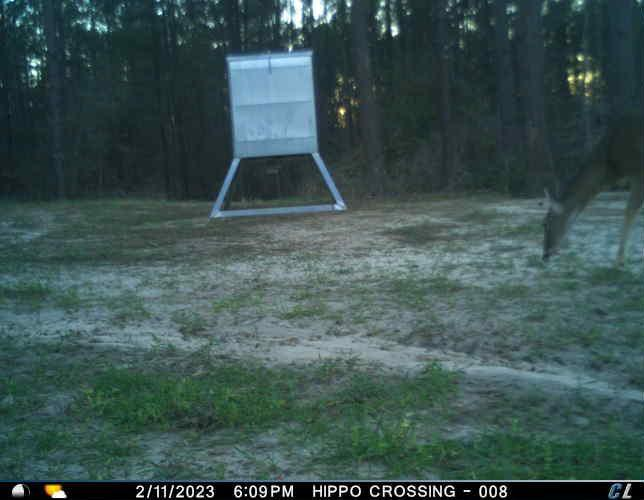Deer: (537, 102, 640, 271)
